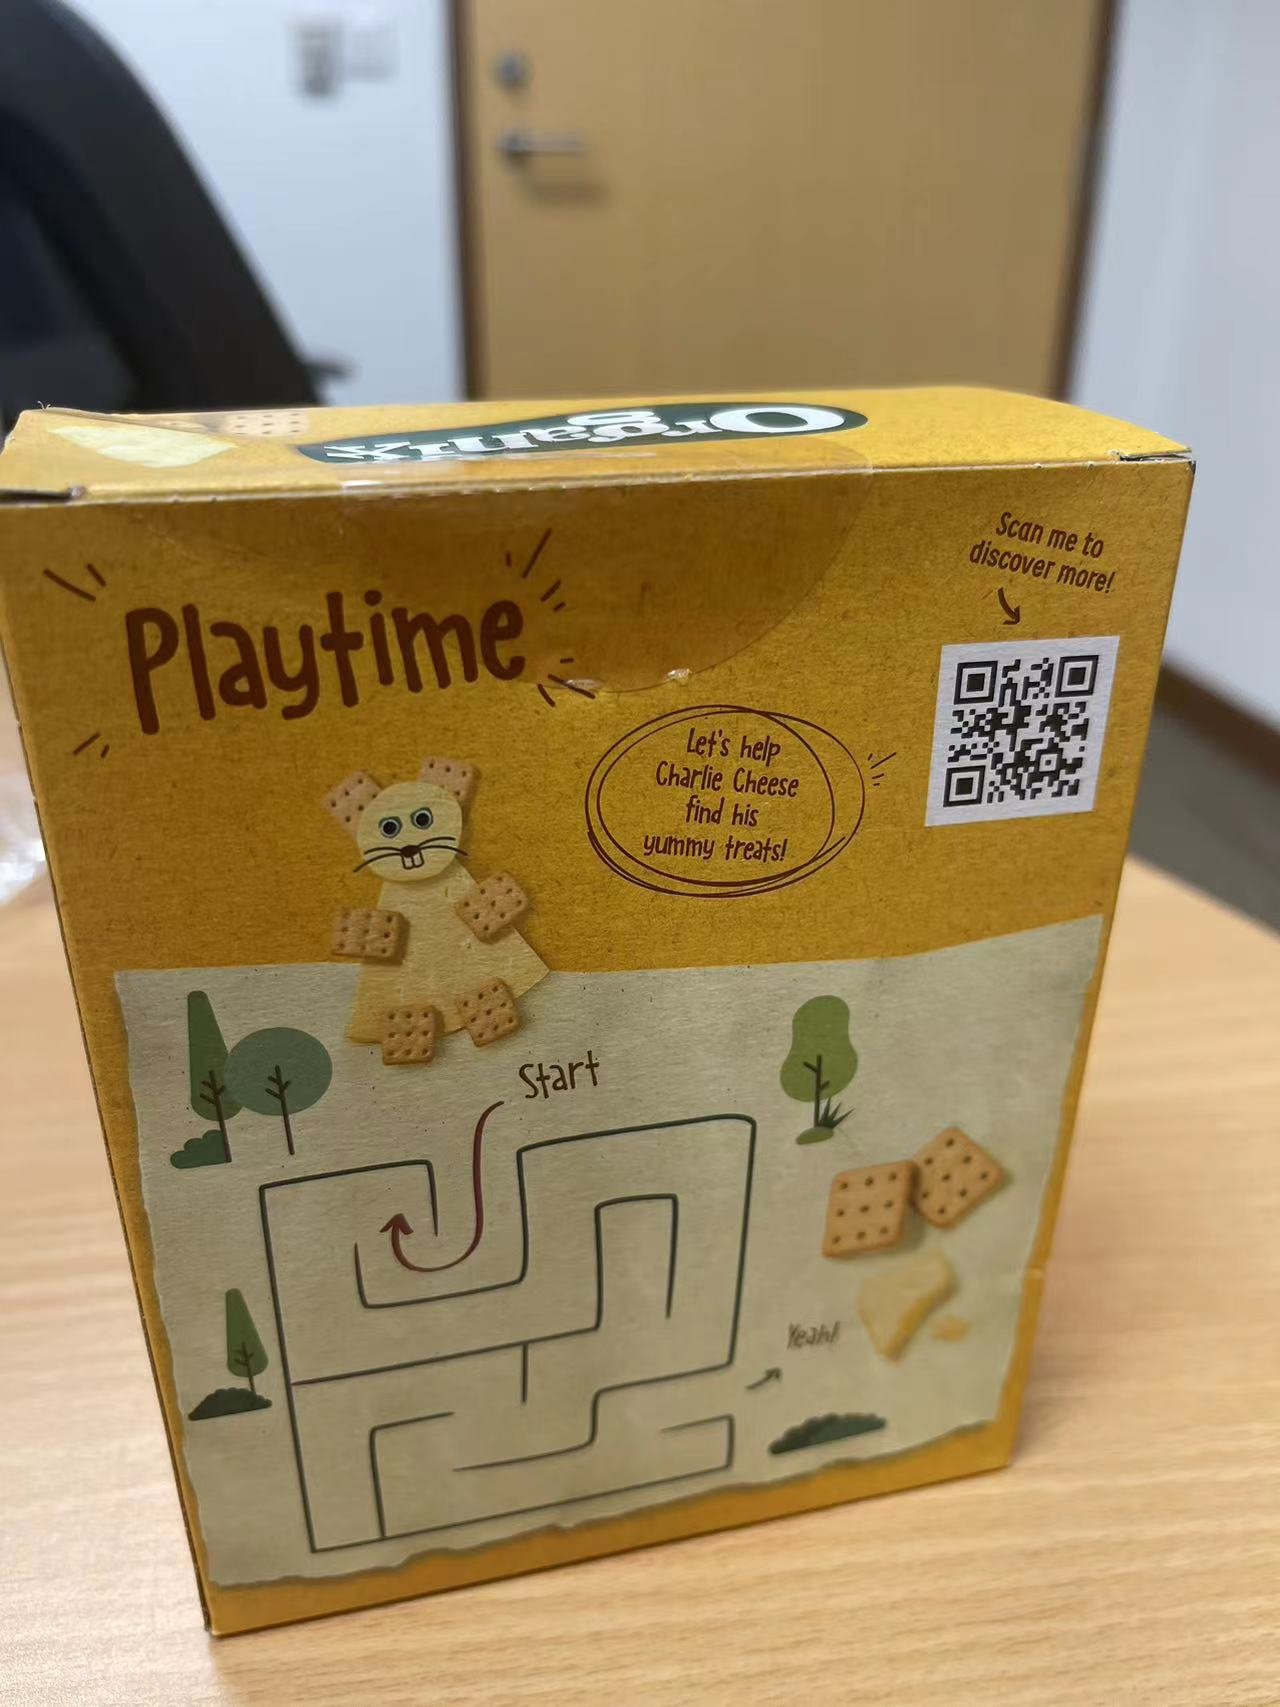Crackers_1-99g_NonHalal_NonHealthy: (4, 392, 1203, 1647)
